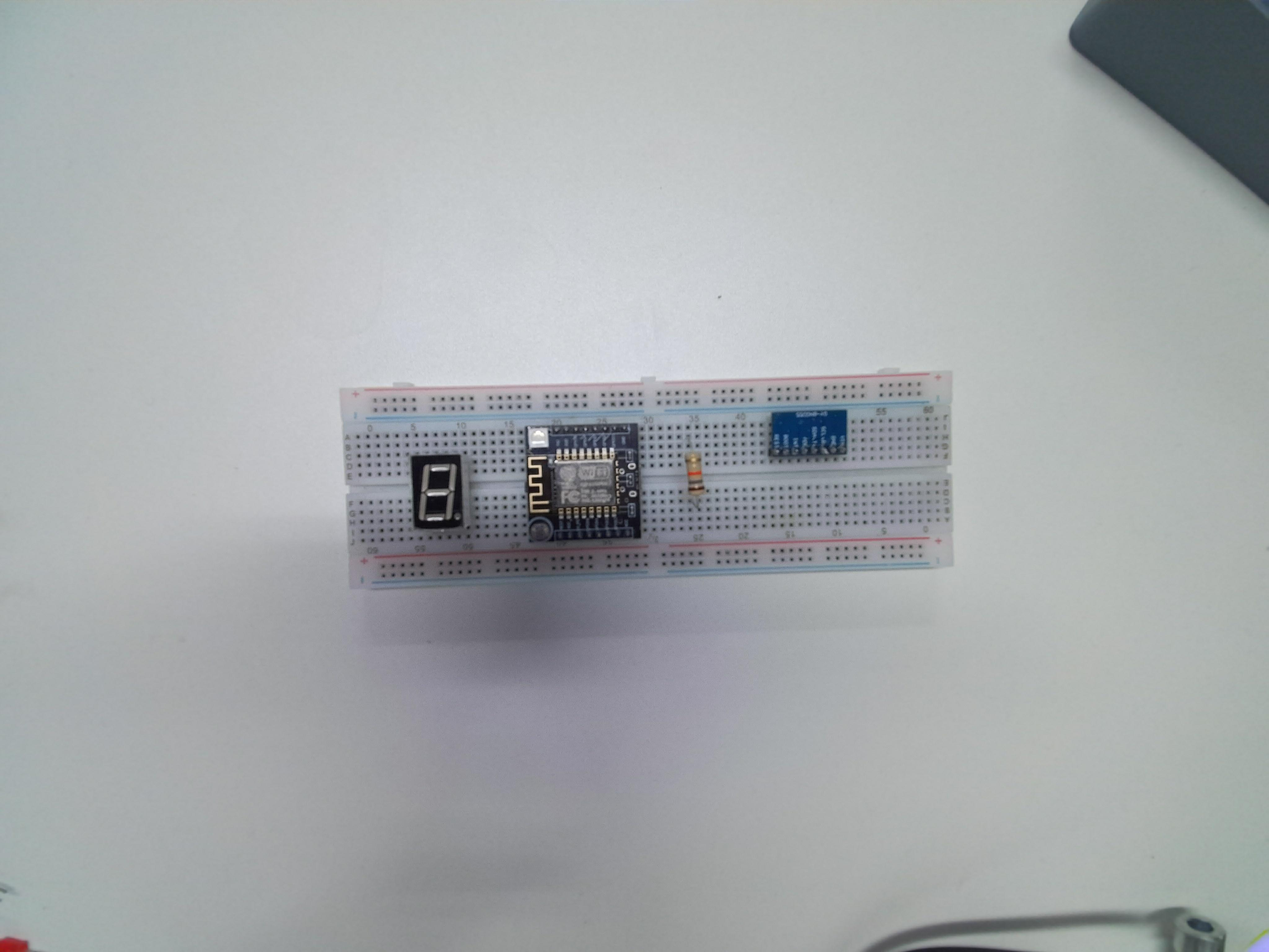base: (341, 374, 957, 591)
blue-board: (768, 408, 849, 462)
digit-board: (410, 452, 467, 529)
esp: (523, 421, 643, 546)
resistor-big: (682, 450, 711, 505)
